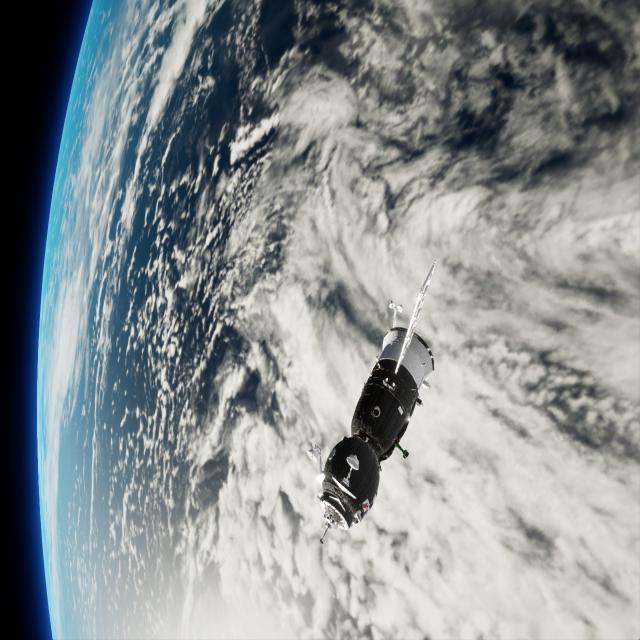Satellites revolving around earth: (35, 1, 638, 638), (313, 257, 440, 538)
